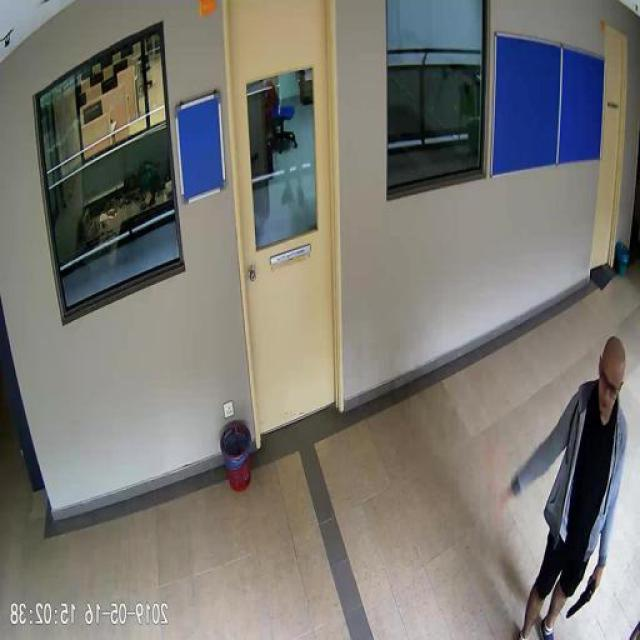weapon: (564, 568, 603, 618)
